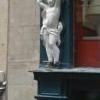Statue: (31, 1, 80, 72)
